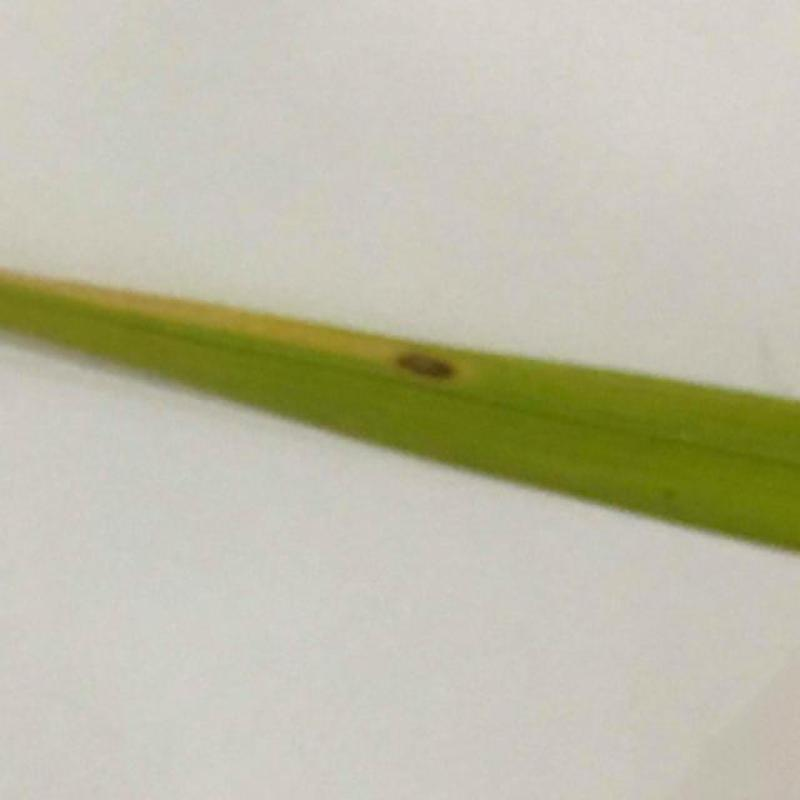Leaf_Blast: (269, 302, 575, 423)
